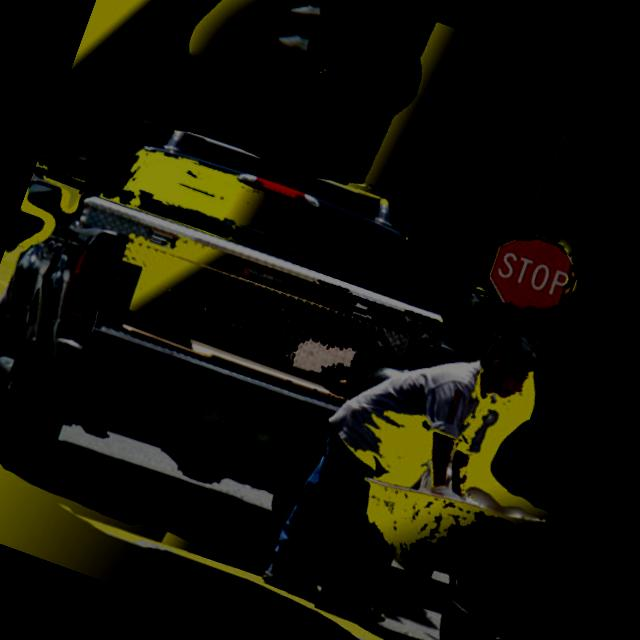Vehicle: (0, 81, 499, 595)
